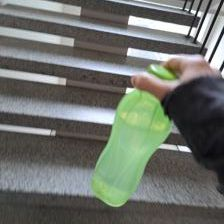bottle: (91, 62, 177, 208)
